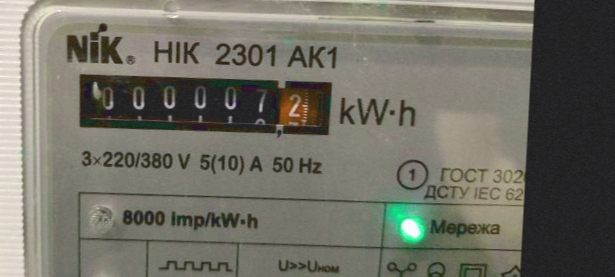0: (160, 82, 179, 110), (130, 82, 148, 111), (222, 82, 240, 111), (99, 82, 117, 110), (192, 81, 209, 109)
2: (287, 89, 304, 119)
7: (252, 85, 269, 114)
screen: (69, 59, 345, 145)
